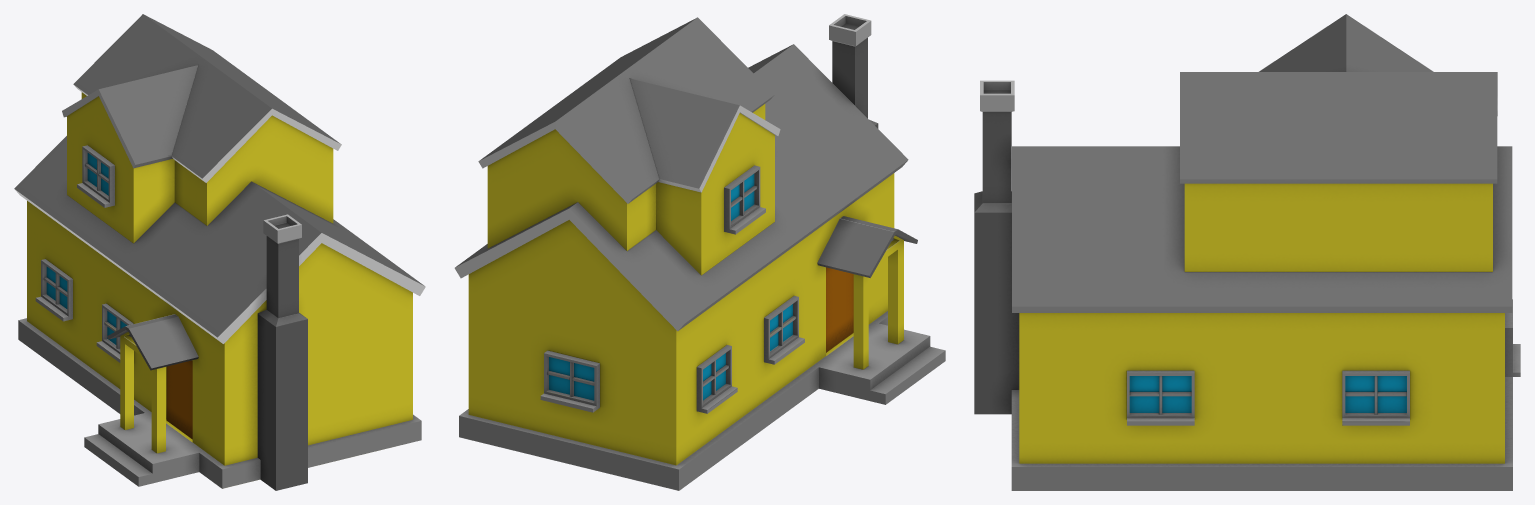
The model's file is building_2.glb.
3 renders of one model, left to right at view 1: azimuth 30°, elevation 25°; view 2: azimuth 150°, elevation 25°; view 3: azimuth 270°, elevation 25°, orthographic. The views are drawn at different scales.
Parts seen in each view (by area): view 1: House Complete.001; view 2: House Complete.001; view 3: House Complete.001.
Part boxes in pixels (bbox=[...]): House Complete.001: bbox=[14, 14, 425, 490]; House Complete.001: bbox=[454, 14, 945, 490]; House Complete.001: bbox=[974, 14, 1520, 490].
Size of the model in its own units: 1643 by 1791 by 2391.
1 material, 1 textured.
